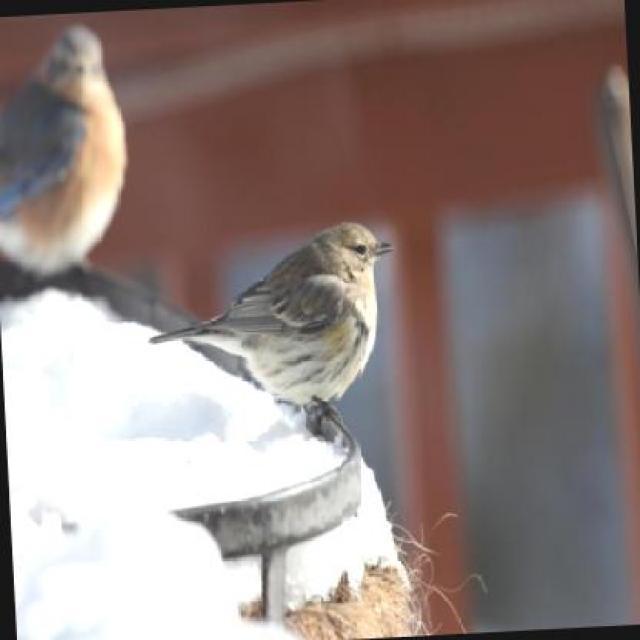Bird: (194, 182, 385, 443), (0, 27, 141, 304)
